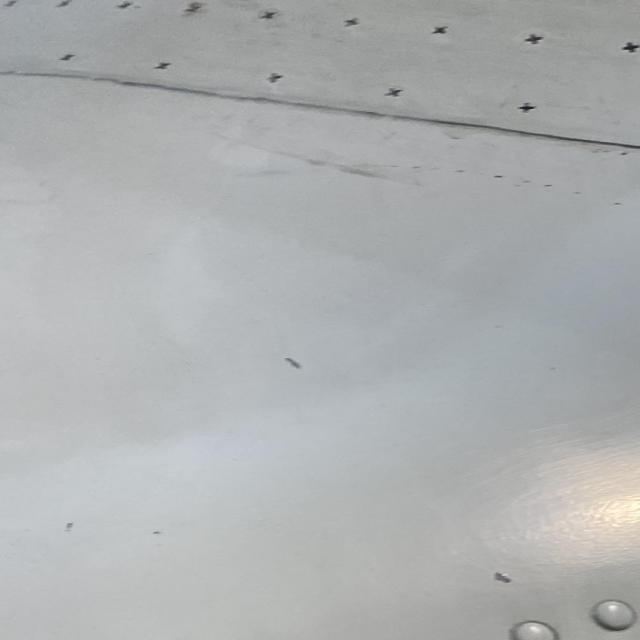Paint-off: (252, 335, 331, 388), (485, 568, 532, 588)
